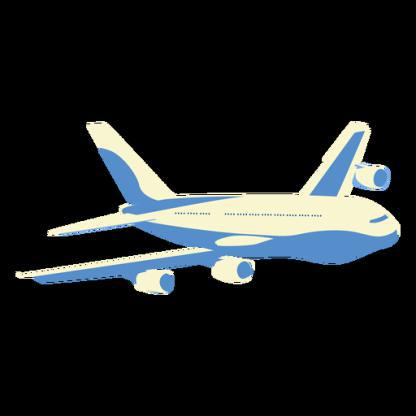CIV_Plane: (13, 116, 404, 294)
